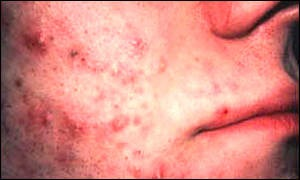Acne: (10, 5, 181, 172)
